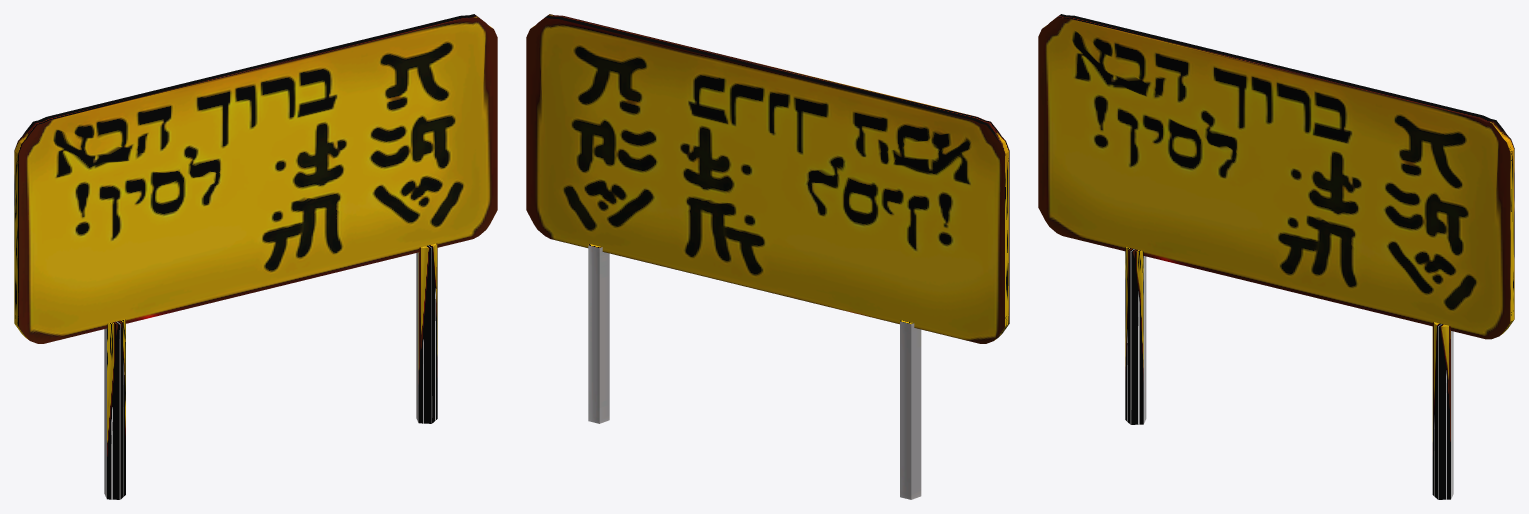
Rendered from FinSign.glb.
3 renders of one model, left to right at view 1: azimuth 30°, elevation 25°; view 2: azimuth 150°, elevation 25°; view 3: azimuth 330°, elevation 25°, orthographic.
Visible parts, largest first — view 1: FinSign; view 2: FinSign; view 3: FinSign.
Boxes of the visible parts, x1,y1,x2,y2 form: FinSign: [14, 14, 497, 499]; FinSign: [526, 14, 1009, 499]; FinSign: [1038, 14, 1514, 499].
Bounding box in the file's own units: 150 × 118 × 5.52.
1 material, 1 textured.
